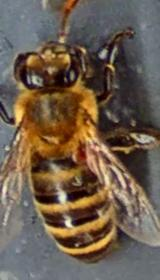varroa_mite: (64, 136, 100, 171)
